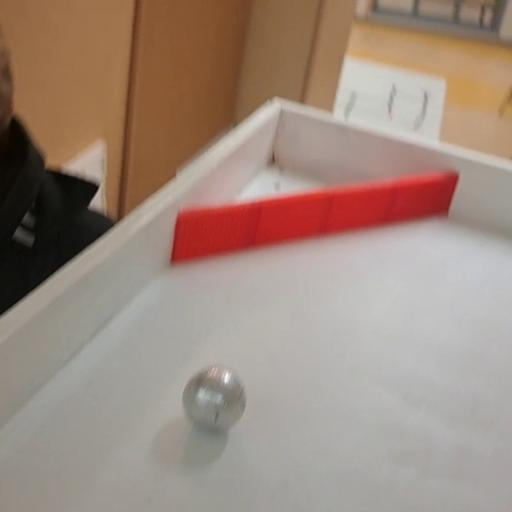alive: (180, 364, 251, 435)
